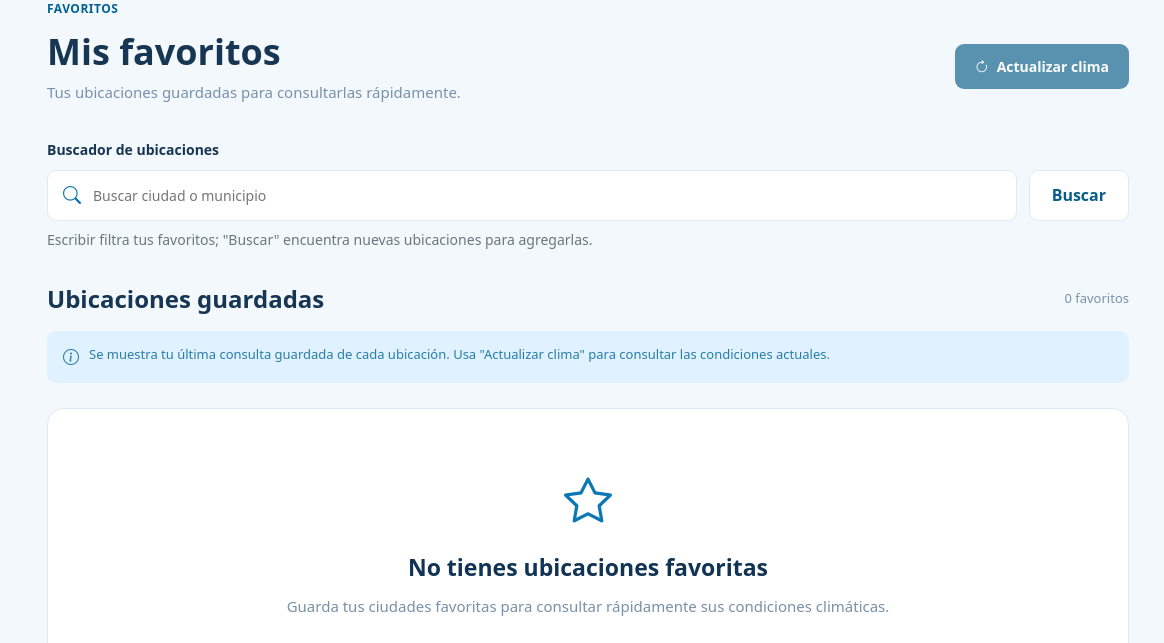
Test case: M07 – favoritos › agrega un favorito: buscar → elegir → POST con idUbicacion
Expected: the heading "No tienes ubicaciones favoritas" is shown, [408, 552, 768, 584]
In the search field labelled "Buscador de ubicaciones": (547, 195) [93, 171, 1001, 220], type "Guatemala"
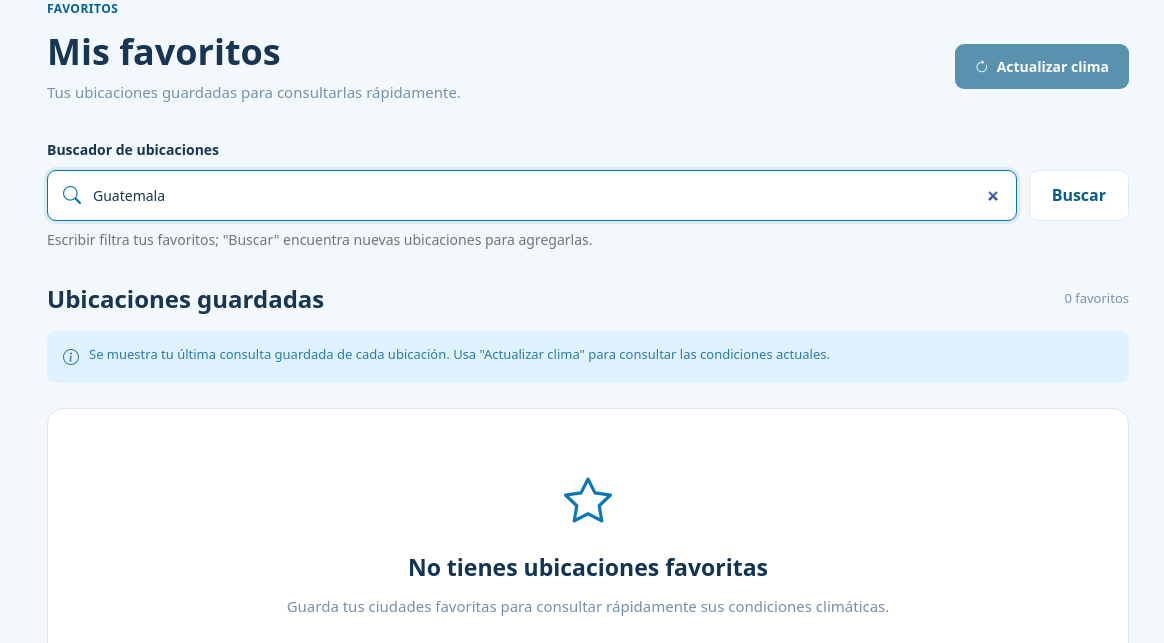
Click the button "Buscar": (1079, 195) [1029, 170, 1129, 221]
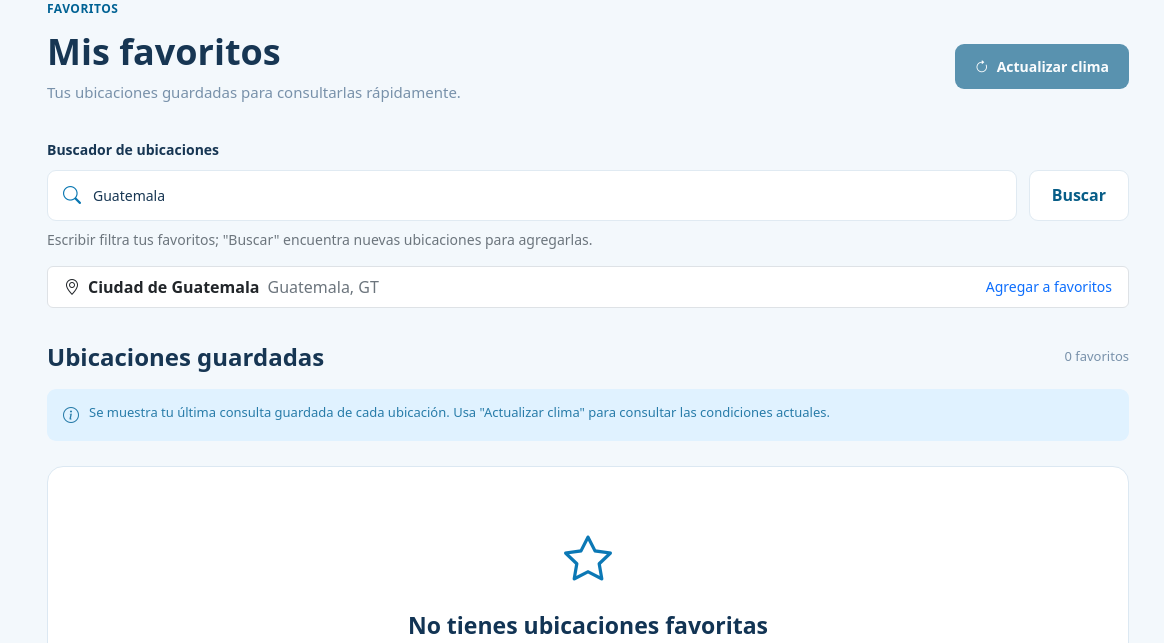
Click the button that starts with "Ciudad de Guatemala": (174, 287) [47, 266, 1129, 308]
(page scrolled)
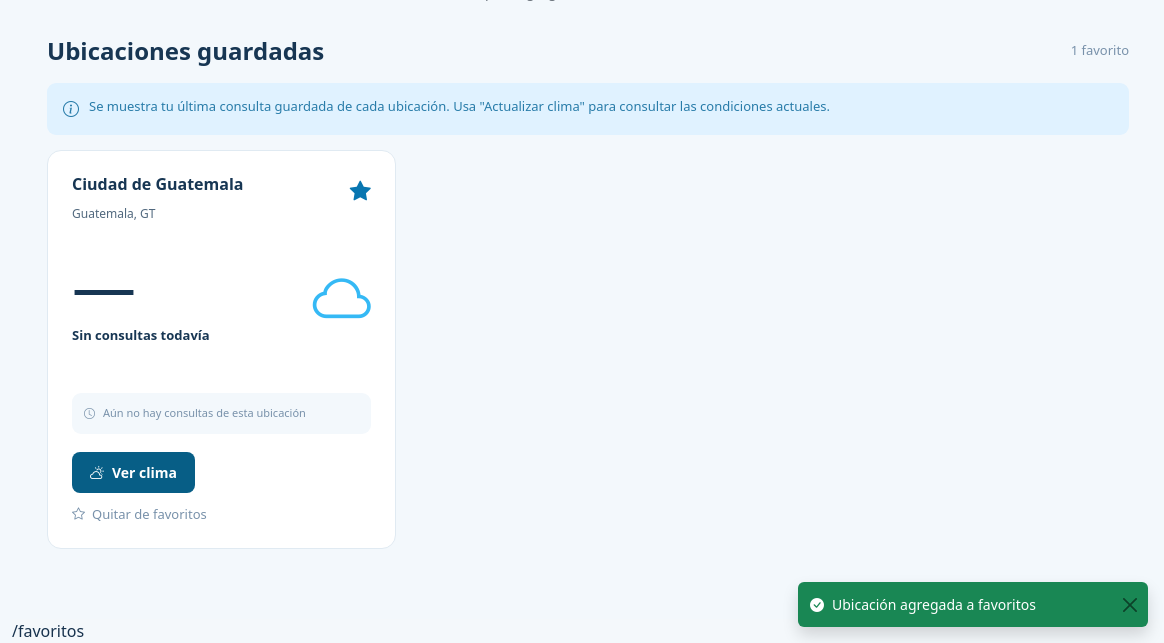
Expected: the heading "Ciudad de Guatemala" is shown, [72, 176, 244, 195]
Expected: the text "Aún no hay consultas de esta ubicación" is shown, [103, 405, 306, 422]
